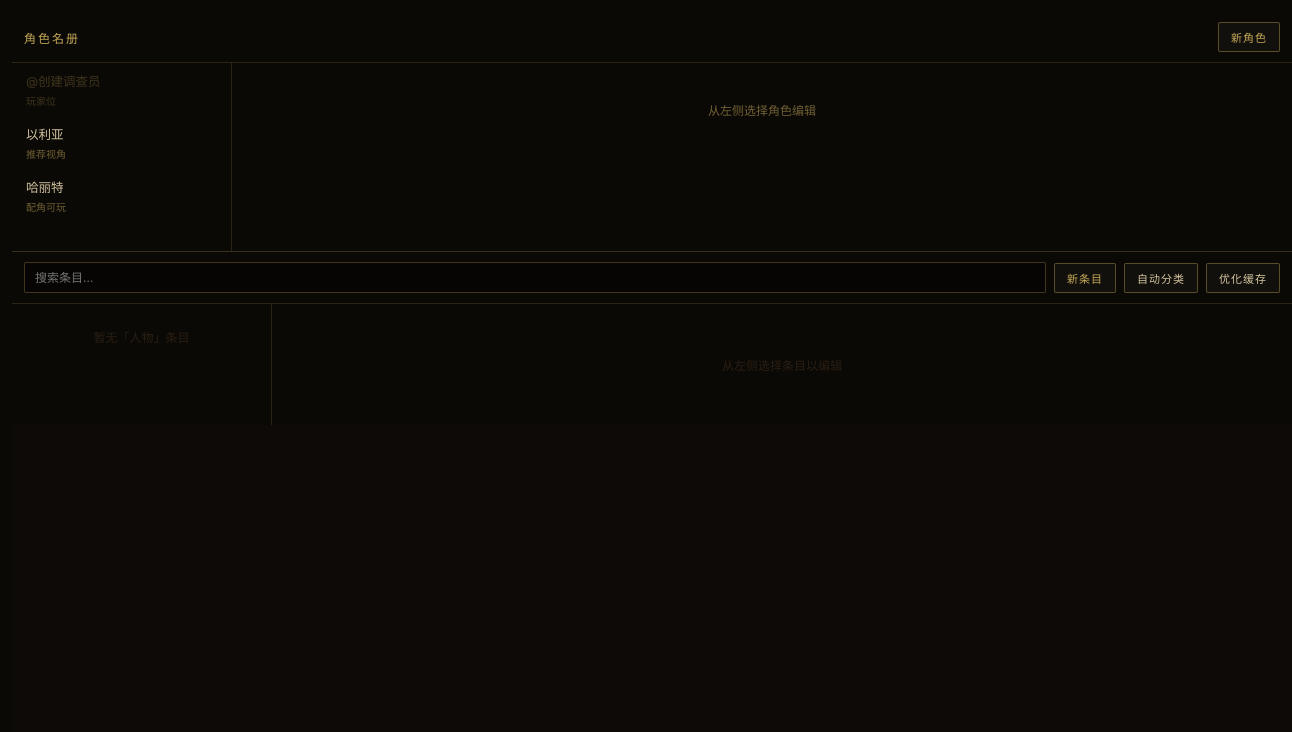
Test: PeopleTab 右栏 — 人际关系折叠段 › 展开后渲染 RelationEditor，data-current-char-id 等于当前选中角色 id
Click the text "以利亚": (45, 134) [26,124,64,143]
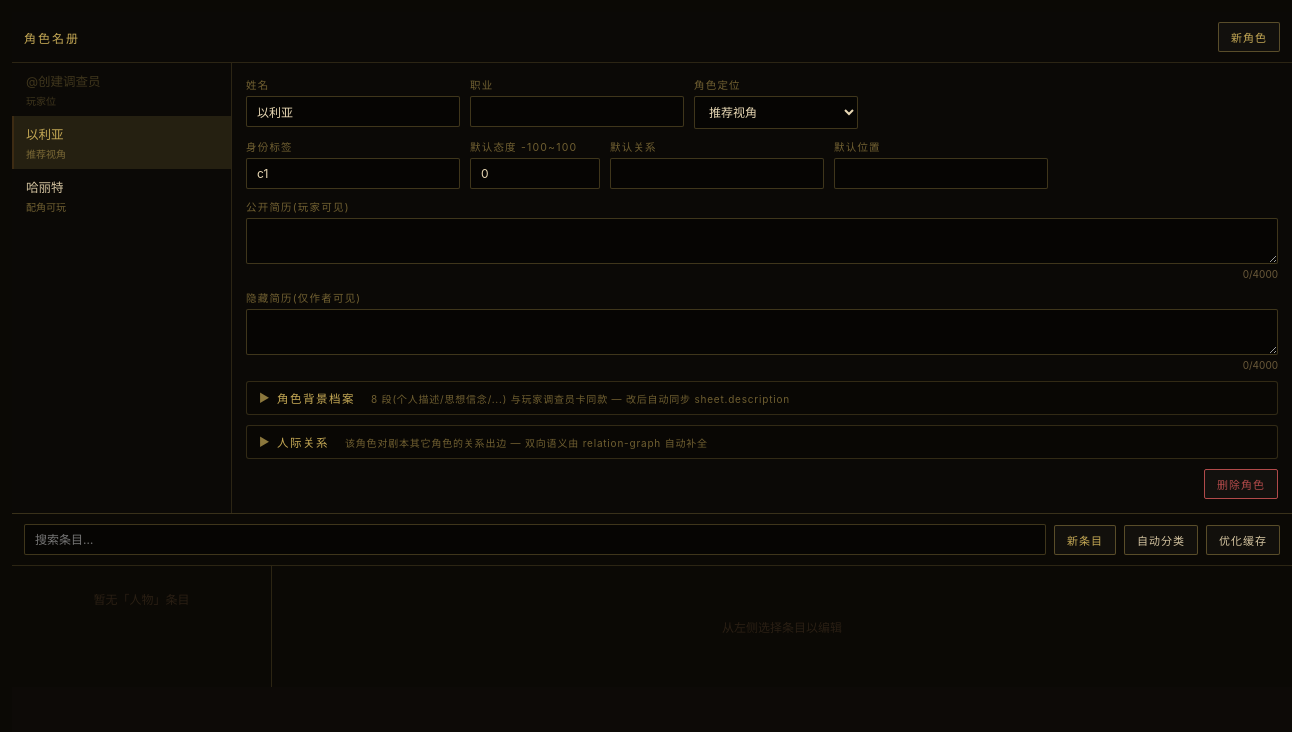
#  点击折叠头展开
Click the text "人际关系": (303, 442) [277,434,329,450]
(page scrolled)
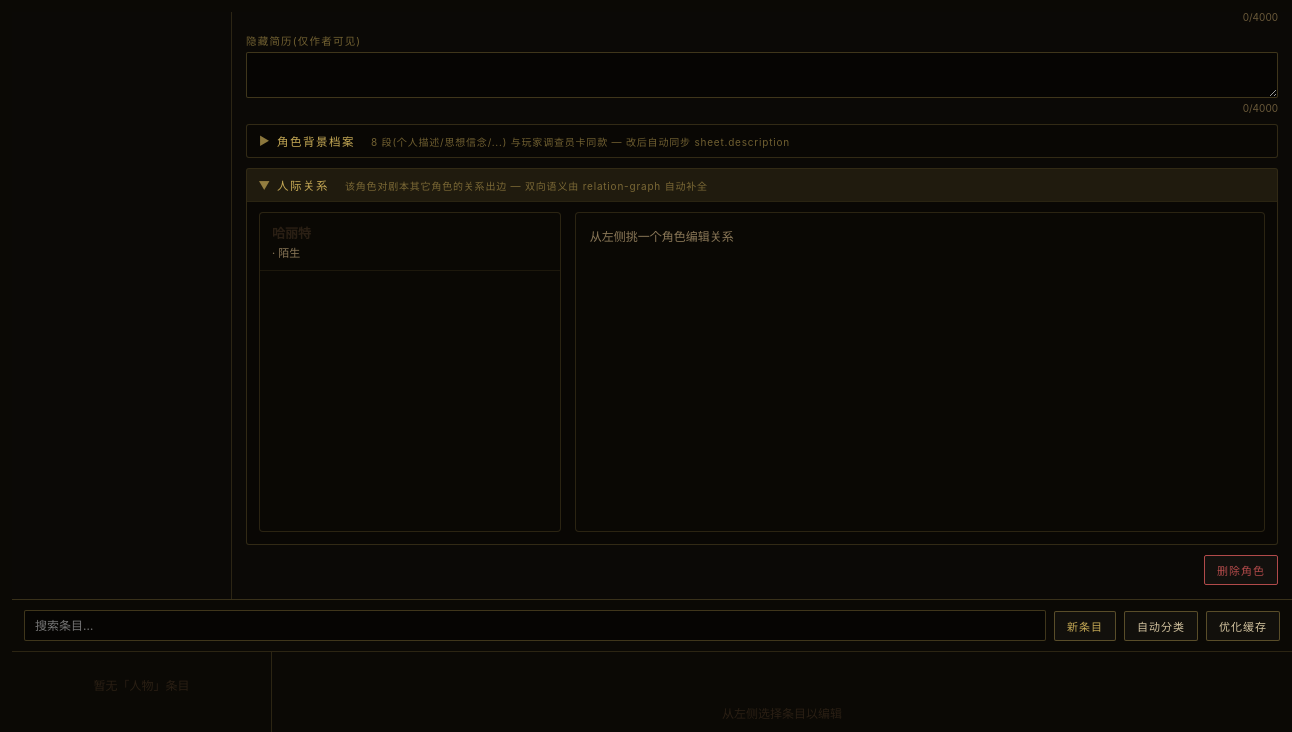
Expected: the element with test id "relation-editor" is shown, [259,212,1265,532]
